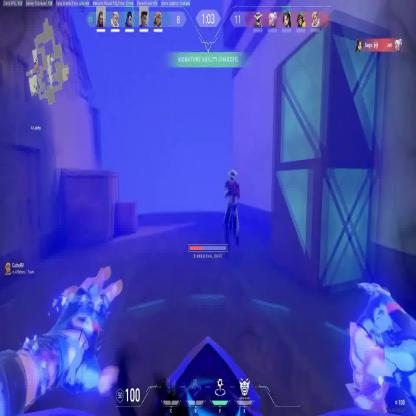enemy: (222, 166, 240, 258)
enemy_head: (227, 170, 238, 182)
